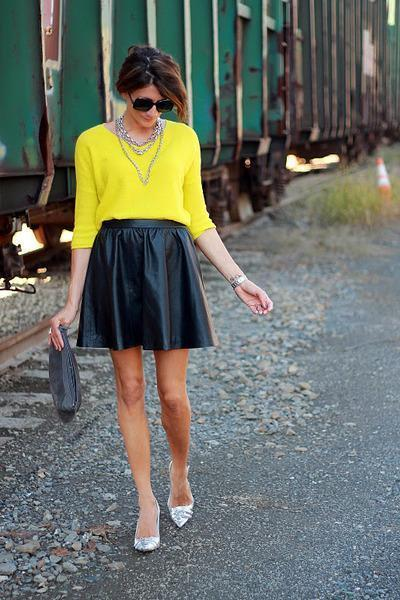bag: (36, 324, 107, 406)
jacket: (69, 108, 211, 251)
shoe: (134, 494, 193, 549)
skirt: (75, 218, 213, 355)
sunglass: (132, 98, 174, 112)
